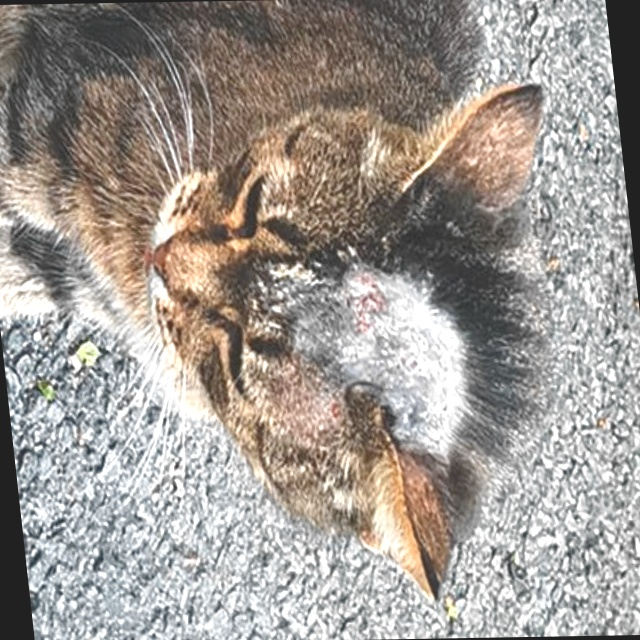ringworm: (261, 268, 482, 462)
